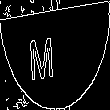M_N: (41, 28, 69, 82)
